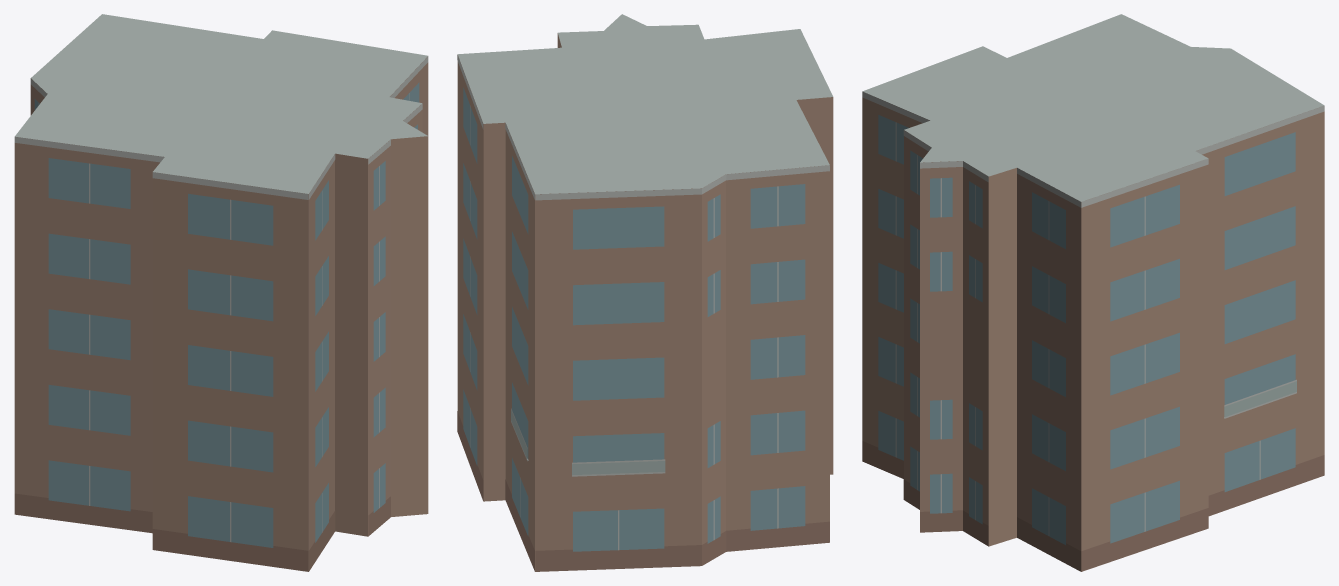
File: survey-upis-32947604.glb
The picture shows the model from 3 angles, left to right: view 1: azimuth 30°, elevation 25°; view 2: azimuth 150°, elevation 25°; view 3: azimuth 270°, elevation 25°; orthographic projection. The views are drawn at different scales.
Visible parts, largest first — view 1: survey-upis-32947604.tmp; view 2: survey-upis-32947604.tmp; view 3: survey-upis-32947604.tmp.
Boxes of the visible parts, bbox=[...] form: survey-upis-32947604.tmp: bbox=[14, 14, 428, 571]; survey-upis-32947604.tmp: bbox=[457, 14, 833, 571]; survey-upis-32947604.tmp: bbox=[862, 14, 1324, 571].
Size of the model in its own units: 16.4 by 15.05 by 17.05.
